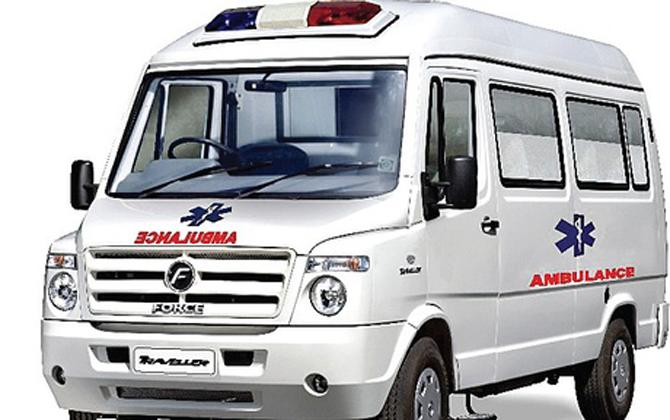ambulance: (27, 1, 670, 420)
